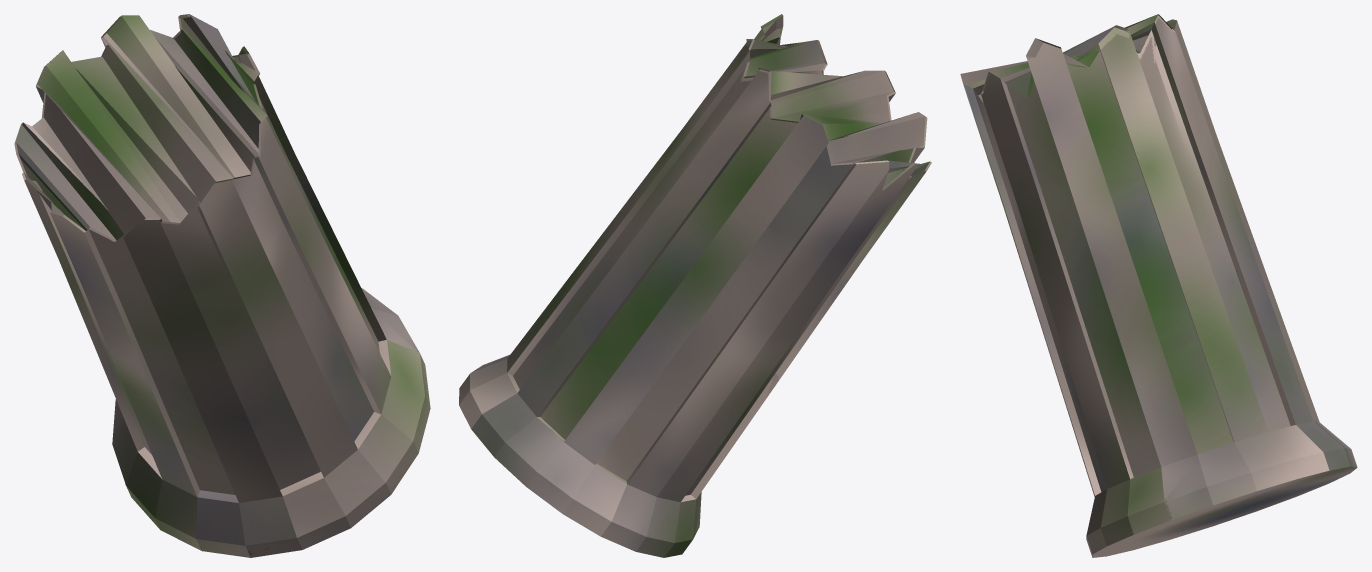
Rendered from pillar_broken1.glb.
3 views of the same model, side by side, from view 1: azimuth 30°, elevation 25°; view 2: azimuth 150°, elevation 25°; view 3: azimuth 270°, elevation 25° (orthographic). The views are drawn at different scales.
Visible parts, largest first — view 1: Cylinder.001; view 2: Cylinder.001; view 3: Cylinder.001.
Part boxes in pixels (x1,y1,x2,y2): Cylinder.001: [14, 14, 430, 557]; Cylinder.001: [459, 14, 931, 557]; Cylinder.001: [960, 14, 1357, 557].
Size of the model in its own units: 0.9096 by 1.11 by 0.8025.
1 material, 1 textured.
